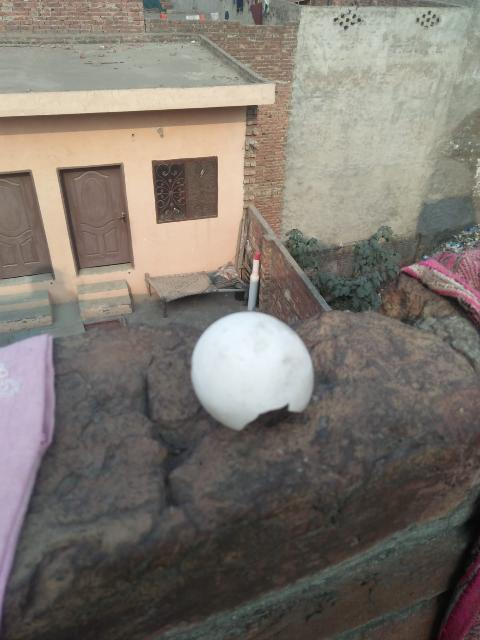Roto: (189, 310, 315, 431)
